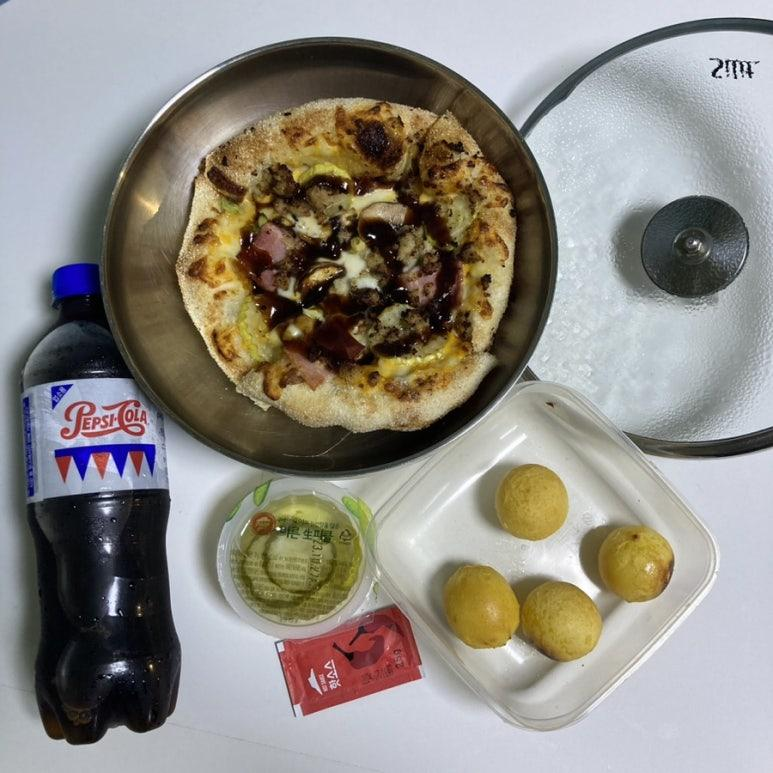Bottle: (21, 263, 180, 742)
Lunch Box: (102, 19, 772, 472), (368, 381, 717, 730)
cup: (217, 479, 371, 637)
